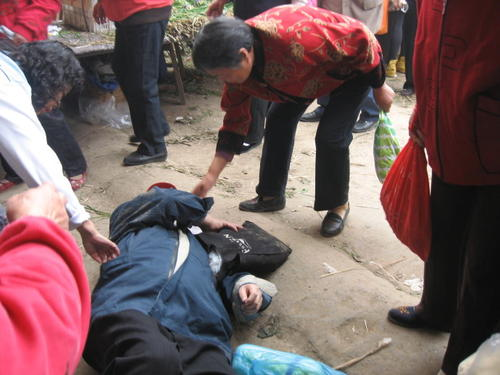fall: (72, 165, 315, 375)
